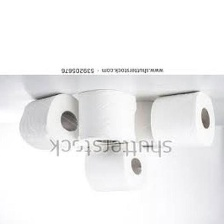tissue: (146, 89, 217, 148), (16, 90, 82, 153), (81, 137, 150, 197), (74, 86, 136, 148), (131, 97, 160, 150)
